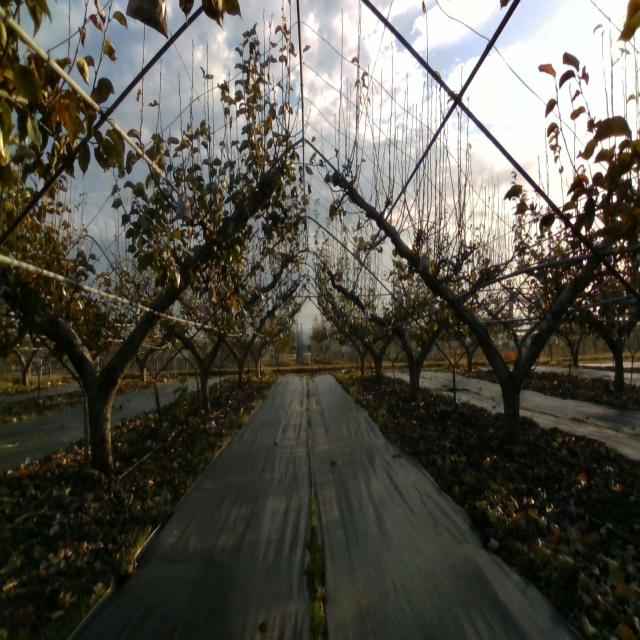pearbags: (176, 186, 192, 222), (419, 249, 432, 276)
